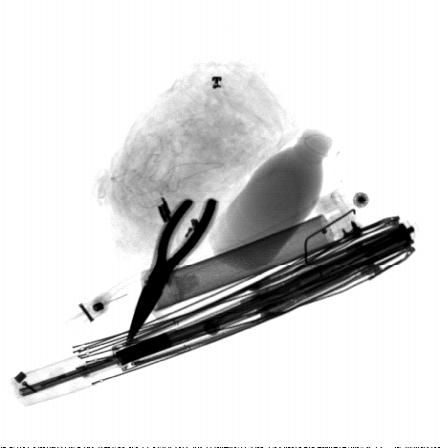Pliers: (124, 193, 221, 347)
